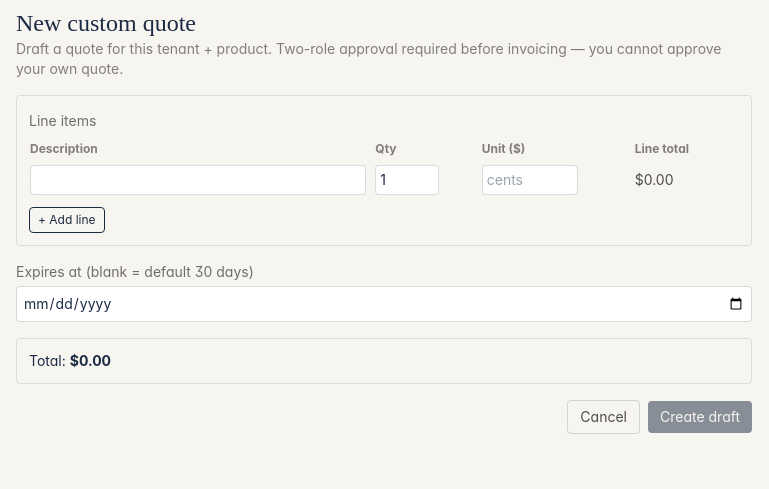
HUB-1737 (S8): NewCustomQuote form › add row + remove row work
This screenshot has width=769, height=489.
Click the button with test id "quote-add-line" at (67, 220), box [29,207,105,233]
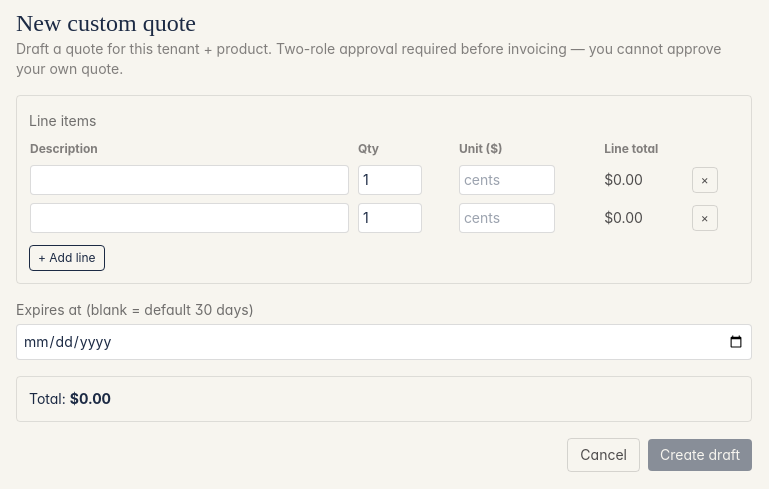
Expected: the field with test id "quote-line-desc-1" is shown, [30,203,349,233]
Click the button with test id "quote-line-remove-1" at (705, 218), box [692,205,718,231]
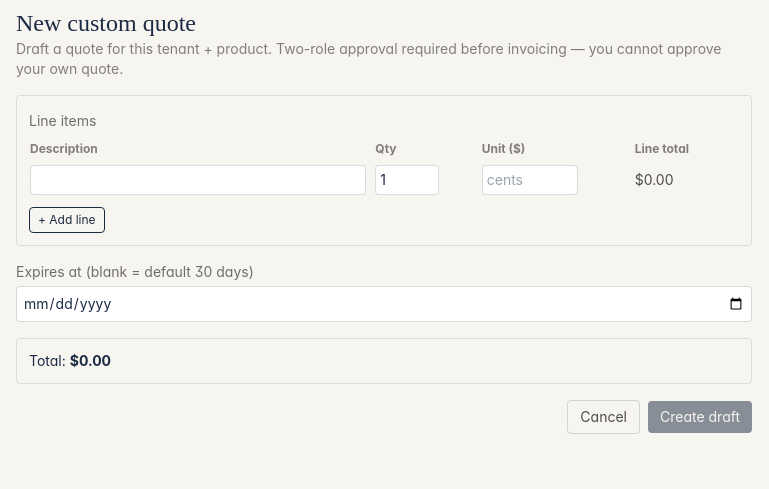
Expected: the field with test id "quote-line-desc-1" is gone
